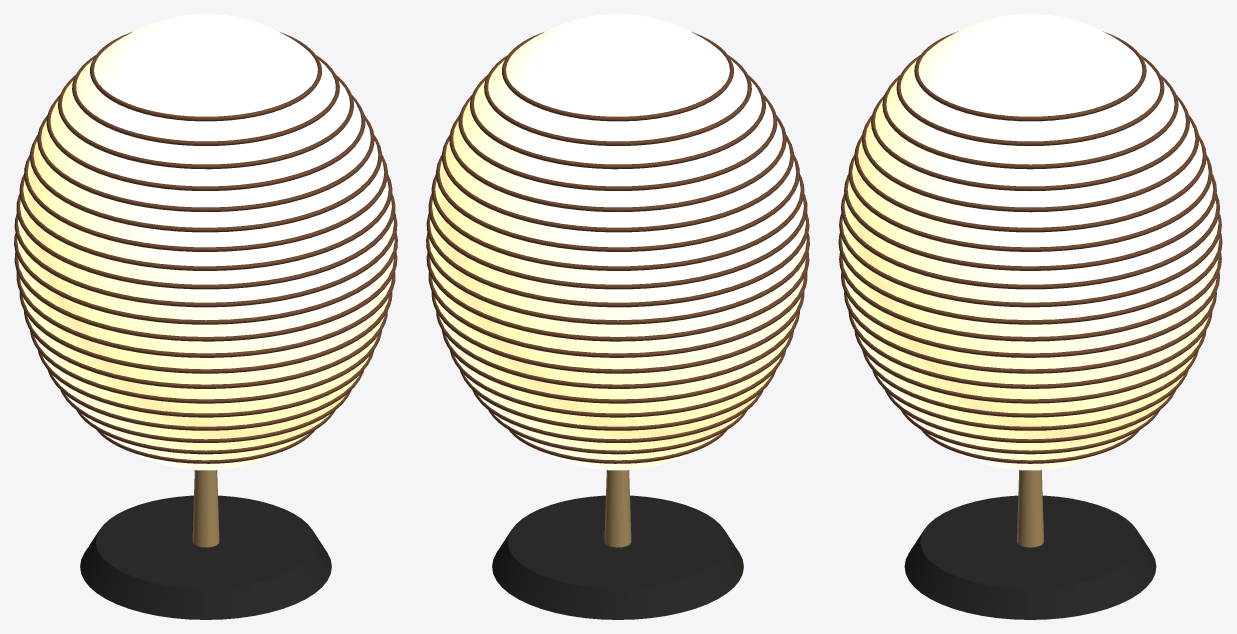
The model's file is akari.glb.
3 views of the same model, side by side, from view 1: azimuth 30°, elevation 25°; view 2: azimuth 150°, elevation 25°; view 3: azimuth 270°, elevation 25° (orthographic).
Size of the model in its own units: 0.976 by 1.51 by 0.976.
